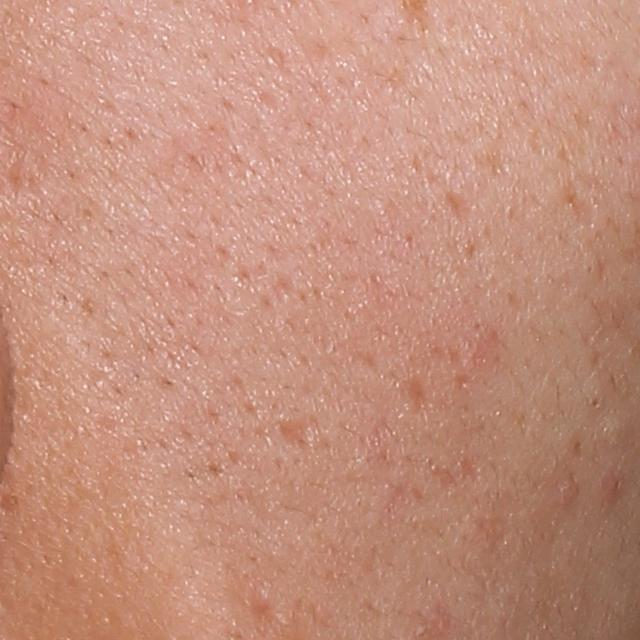atrophic_scar: (557, 181, 605, 236), (393, 371, 441, 421), (275, 415, 317, 454), (444, 189, 482, 226), (246, 592, 281, 631)
